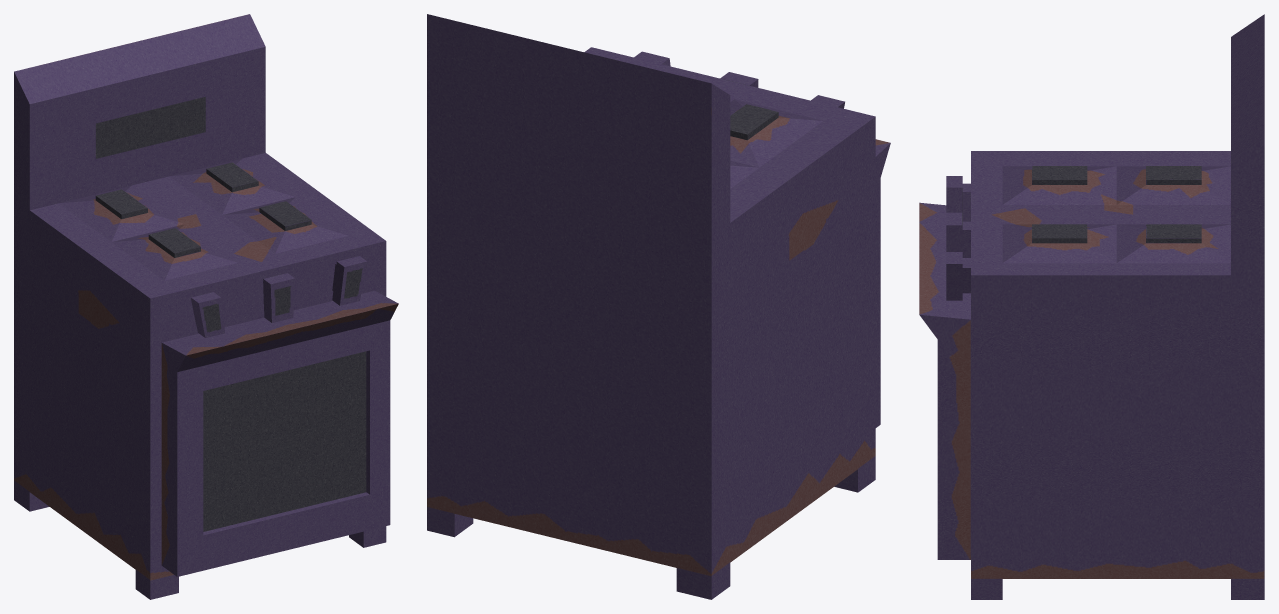
Rendered from CDStove.fbx.
The picture shows the model from 3 angles, left to right: view 1: azimuth 30°, elevation 25°; view 2: azimuth 150°, elevation 25°; view 3: azimuth 270°, elevation 25°; orthographic projection. The views are drawn at different scales.
Visible parts, largest first — view 1: Stove.003; view 2: Stove.003; view 3: Stove.003.
Part boxes in pixels (x1,y1,x2,y2): Stove.003: (14, 14, 398, 599); Stove.003: (427, 14, 890, 599); Stove.003: (919, 14, 1264, 599).
Size of the model in its own units: 73.26 by 127 by 86.19.
